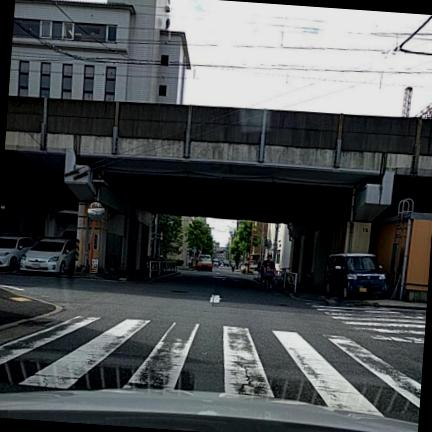Road: (0, 268, 425, 422)
